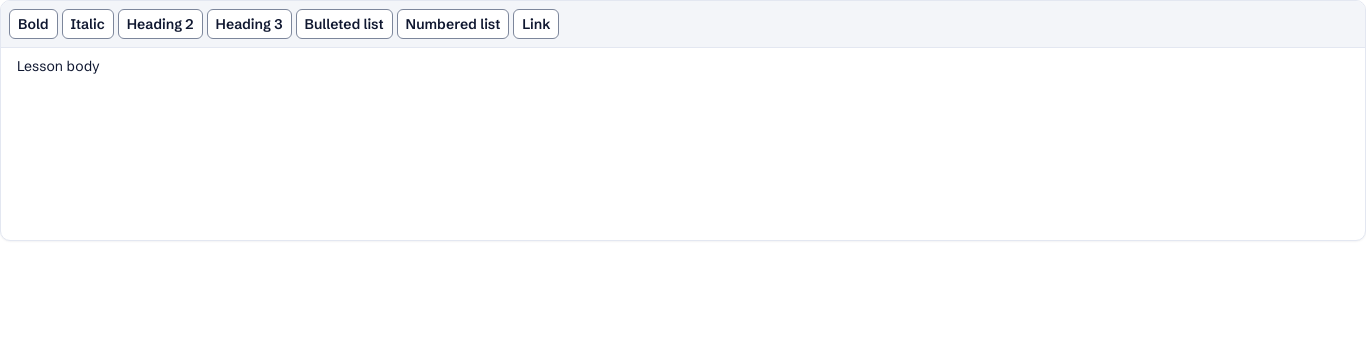
Test: RichTextEditor › opens an accessible inline link editor without using a browser prompt
Click the button "Link".
click(536, 24)  # box left=513, top=9, right=559, bottom=39
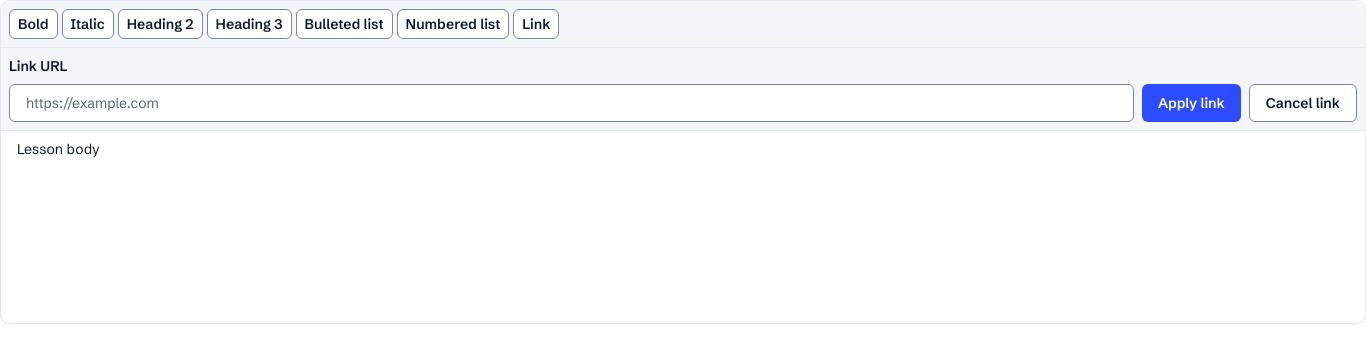
Check: the field labelled "Link URL" is shown, box left=9, top=84, right=1134, bottom=122
Check: the button "Apply link" is shown, box left=1142, top=84, right=1241, bottom=122
Check: the button "Cancel link" is shown, box left=1249, top=84, right=1357, bottom=122
